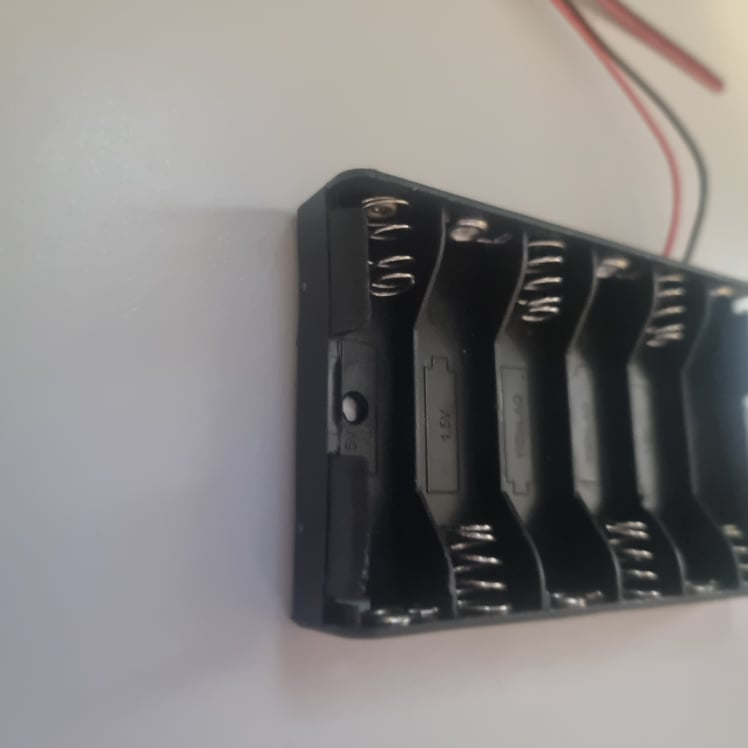BATTERY BOX: (292, 169, 748, 640)
